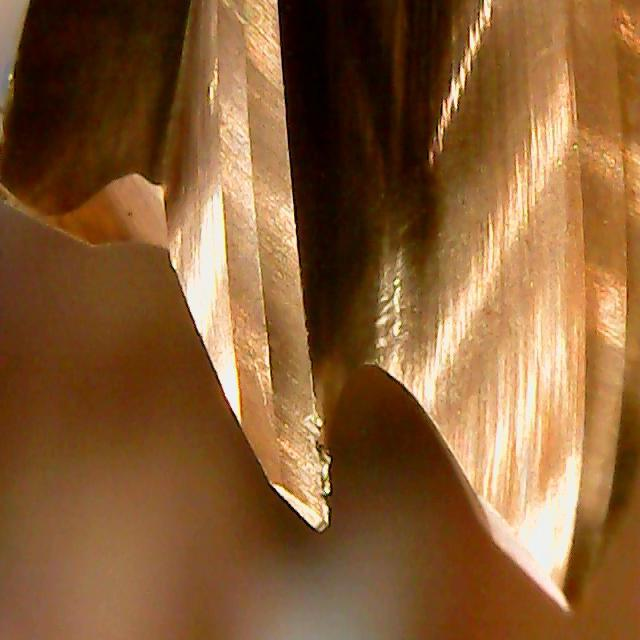Tool-wear-class-1: (234, 232, 338, 539)
